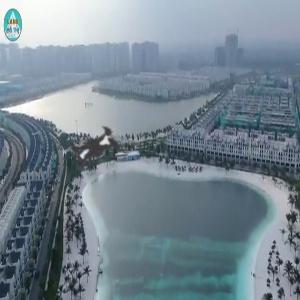drone: (33, 89, 153, 209)
